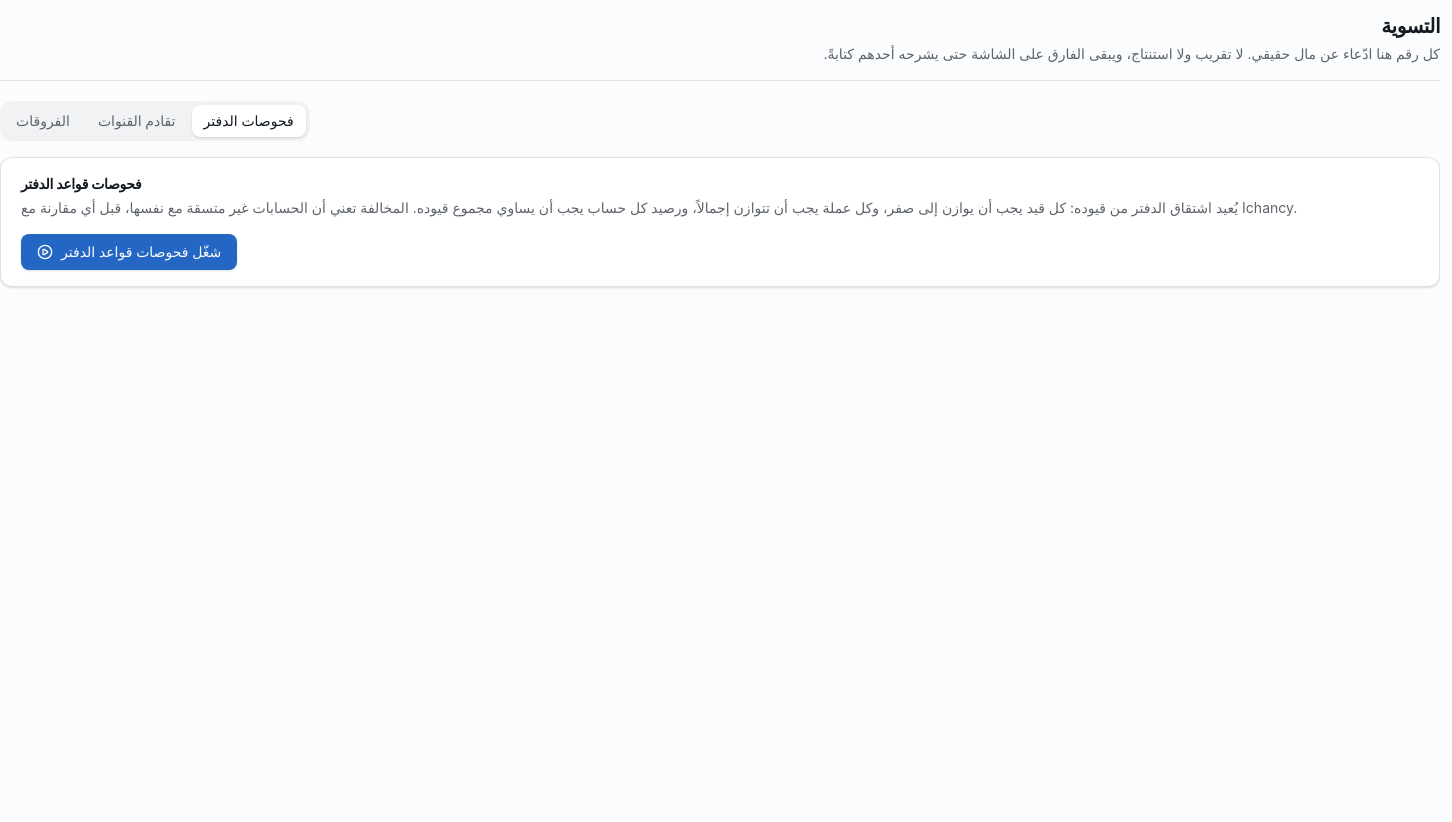
Test: ReconciliationPage in Arabic › counts two broken invariants with the Arabic dual rather than with English plural
The width and height of the screenshot is (1452, 822).
Click the button "شغّل فحوصات قواعد الدفتر" at point(129, 252), box [21, 234, 237, 270]
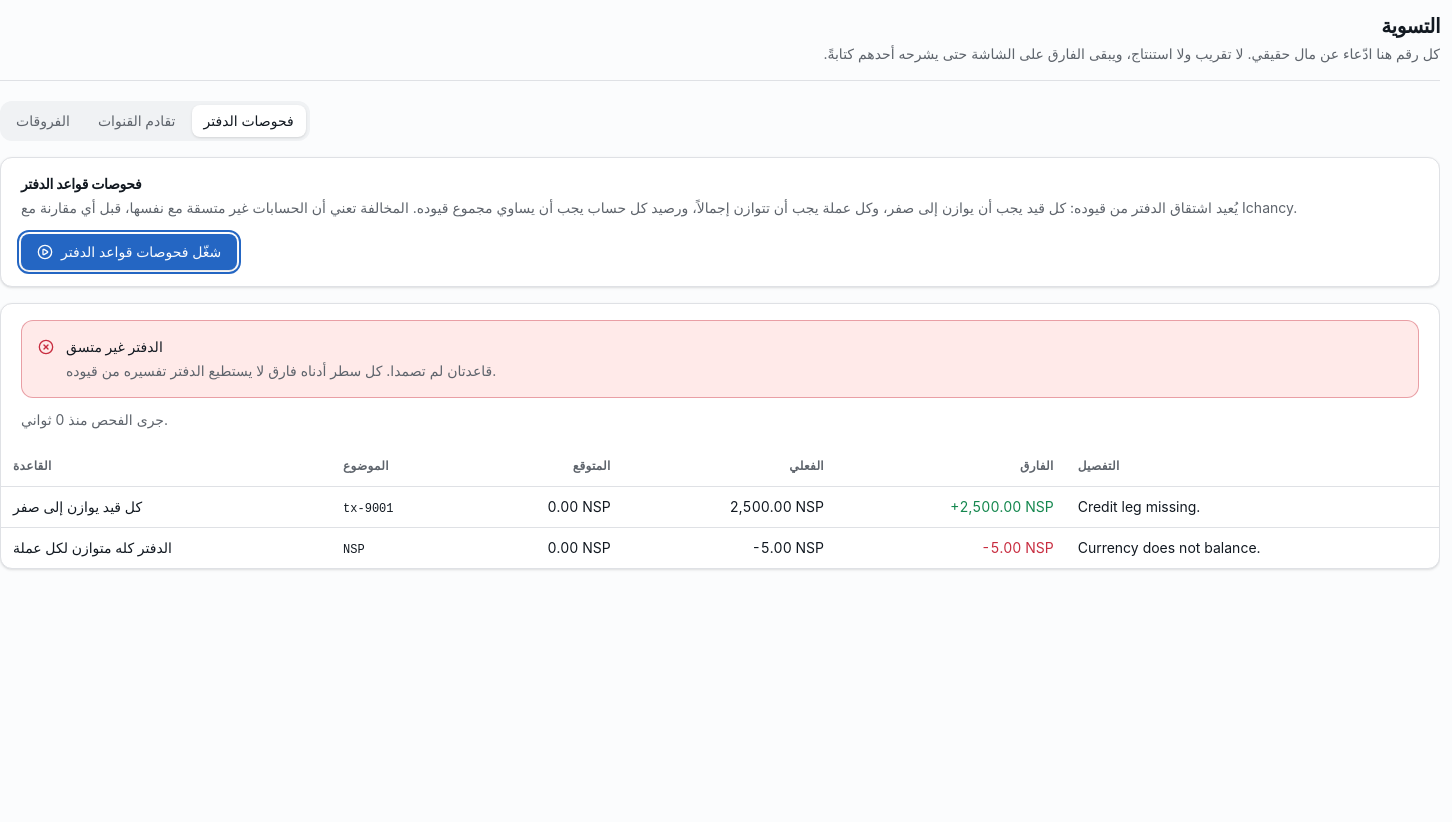
Check: the text "قاعدتان لم تصمدا" is shown, box [66, 362, 496, 379]
Check: the text "كل قيد يوازن إلى صفر" is shown, box [1, 486, 331, 527]
